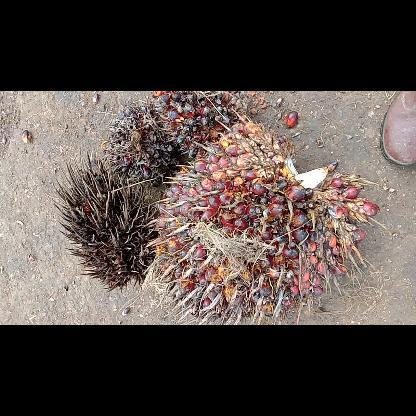Janjang kosong: (48, 148, 160, 294)
TBS abnormal: (150, 92, 254, 160), (105, 104, 179, 188)
TBS masak: (138, 118, 380, 322)
